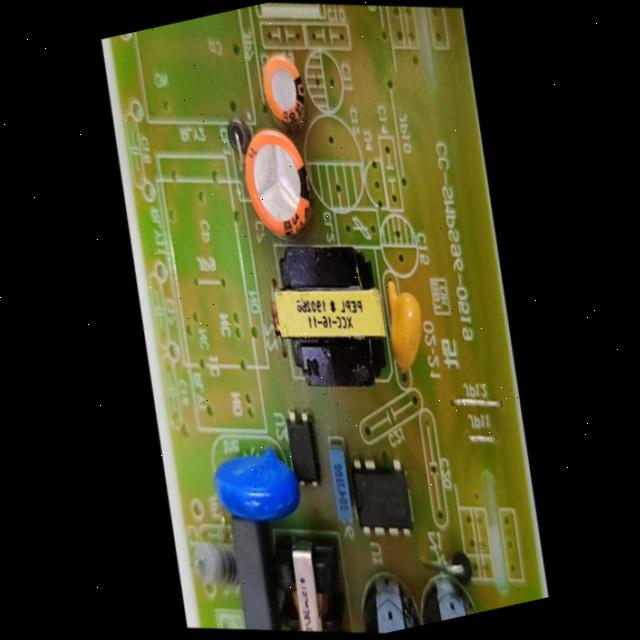Cap1: (224, 107, 334, 259)
Cap2: (245, 35, 321, 138)
Cap3: (337, 550, 427, 638)
Cap4: (406, 548, 491, 625)
MOSFET: (340, 441, 427, 558)
Mov: (198, 422, 316, 547)
Resistor: (182, 526, 247, 602)
Transformer: (252, 220, 412, 421), (262, 528, 356, 638)
